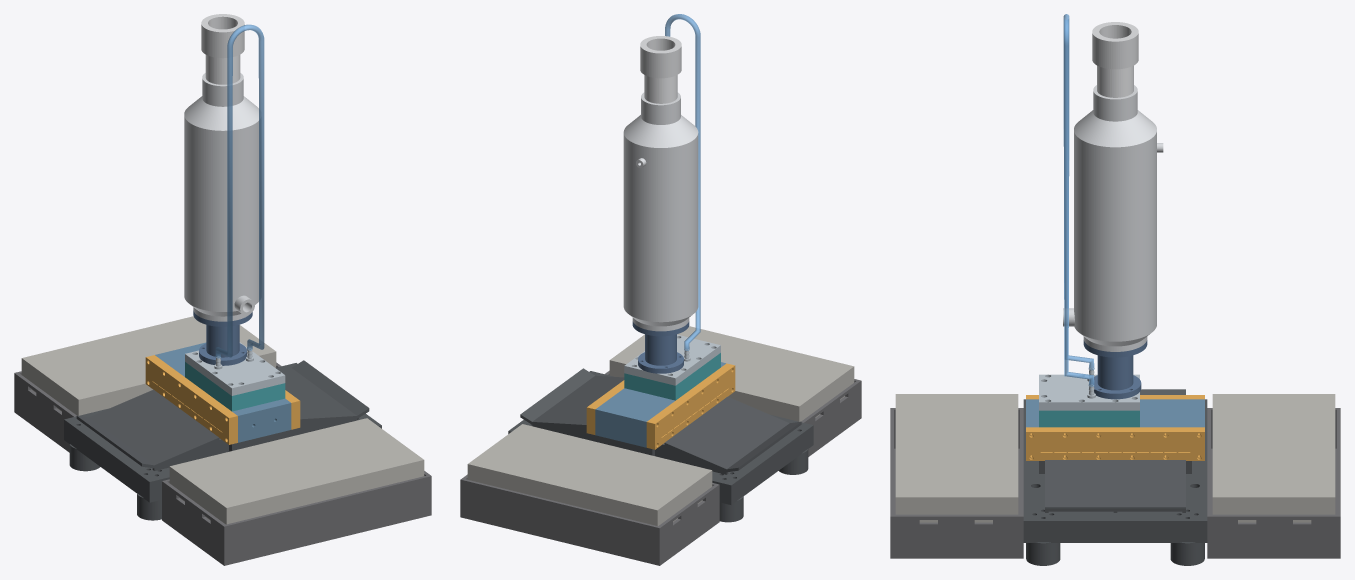
Rendered from Pulsed_Diffuser_V3_Assembly.glb.
3 views of the same model, side by side, from view 1: azimuth 30°, elevation 25°; view 2: azimuth 150°, elevation 25°; view 3: azimuth 270°, elevation 25° (orthographic). The views are drawn at different scales.
Visible parts, largest first — view 1: Part_09_Accumulator_Condensate_Separator, REF_Ballast_Concrete_Block_400x200x100, Part_01_Benthic_Base_Chassis, Part_10_Ballast_Cradle_(-Y_copy), REF_Ballast_Concrete_Block_400x200x100.001, REF_Feedback_Loop_PU_8x10_L1400, Part_06_Slit_Cartridge_BankA, Part_05_Oscillator_Top_Cover_Plate, Part_02_Twin_Plenum_Manifold, Part_10_Ballast_Cradle, Part_08_Duckbill_Check_Valve_Spool, REF_2in_Camlock_Adapter (+2 smaller); view 2: Part_09_Accumulator_Condensate_Separator, REF_Ballast_Concrete_Block_400x200x100.001, Part_01_Benthic_Base_Chassis, Part_10_Ballast_Cradle, REF_Ballast_Concrete_Block_400x200x100, Part_06_Slit_Cartridge_BankA, Part_02_Twin_Plenum_Manifold, Part_10_Ballast_Cradle_(-Y_copy), Part_05_Oscillator_Top_Cover_Plate, Part_08_Duckbill_Check_Valve_Spool, REF_Feedback_Loop_PU_8x10_L1400, REF_2in_Camlock_Adapter (+3 smaller); view 3: Part_09_Accumulator_Condensate_Separator, Part_01_Benthic_Base_Chassis, REF_Ballast_Concrete_Block_400x200x100, REF_Ballast_Concrete_Block_400x200x100.001, Part_10_Ballast_Cradle, Part_10_Ballast_Cradle_(-Y_copy), Part_07_Slit_Cartridge_BankB, Part_05_Oscillator_Top_Cover_Plate, REF_Feedback_Loop_PU_8x10_L1400, Part_02_Twin_Plenum_Manifold, Part_08_Duckbill_Check_Valve_Spool, REF_2in_Camlock_Adapter (+2 smaller).
Part boxes in pixels (x1=…): Part_09_Accumulator_Condensate_Separator: x1=184, y1=73, x2=260, y2=321; REF_Ballast_Concrete_Block_400x200x100: x1=169, y1=418, x2=424, y2=524; Part_01_Benthic_Base_Chassis: x1=64, y1=360, x2=381, y2=520; Part_10_Ballast_Cradle_(-Y_copy): x1=162, y1=471, x2=431, y2=565; REF_Ballast_Concrete_Block_400x200x100.001: x1=21, y1=316, x2=276, y2=415; REF_Feedback_Loop_PU_8x10_L1400: x1=215, y1=24, x2=264, y2=358; Part_06_Slit_Cartridge_BankA: x1=145, y1=355, x2=237, y2=444; Part_05_Oscillator_Top_Cover_Plate: x1=185, y1=342, x2=285, y2=395; Part_02_Twin_Plenum_Manifold: x1=155, y1=342, x2=291, y2=442; Part_10_Ballast_Cradle: x1=14, y1=362, x2=281, y2=452; Part_08_Duckbill_Check_Valve_Spool: x1=193, y1=310, x2=252, y2=365; REF_2in_Camlock_Adapter: x1=201, y1=14, x2=244, y2=58; Part_09_Accumulator_Condensate_Separator: x1=623, y1=92, x2=698, y2=331; REF_Ballast_Concrete_Block_400x200x100.001: x1=467, y1=424, x2=712, y2=525; Part_01_Benthic_Base_Chassis: x1=508, y1=368, x2=813, y2=522; Part_10_Ballast_Cradle: x1=460, y1=474, x2=719, y2=565; REF_Ballast_Concrete_Block_400x200x100: x1=609, y1=326, x2=854, y2=421; Part_06_Slit_Cartridge_BankA: x1=646, y1=363, x2=735, y2=449; Part_02_Twin_Plenum_Manifold: x1=595, y1=362, x2=725, y2=447; Part_10_Ballast_Cradle_(-Y_copy): x1=605, y1=370, x2=861, y2=456; Part_05_Oscillator_Top_Cover_Plate: x1=624, y1=334, x2=720, y2=385; Part_08_Duckbill_Check_Valve_Spool: x1=632, y1=321, x2=689, y2=373; REF_Feedback_Loop_PU_8x10_L1400: x1=665, y1=14, x2=700, y2=350; REF_2in_Camlock_Adapter: x1=640, y1=36, x2=681, y2=78; Part_09_Accumulator_Condensate_Separator: x1=1063, y1=85, x2=1163, y2=351; Part_01_Benthic_Base_Chassis: x1=1023, y1=389, x2=1207, y2=565; REF_Ballast_Concrete_Block_400x200x100: x1=895, y1=394, x2=1018, y2=522; REF_Ballast_Concrete_Block_400x200x100.001: x1=1212, y1=394, x2=1335, y2=522; Part_10_Ballast_Cradle: x1=1207, y1=408, x2=1340, y2=558; Part_10_Ballast_Cradle_(-Y_copy): x1=890, y1=408, x2=1023, y2=558; Part_07_Slit_Cartridge_BankB: x1=1026, y1=427, x2=1204, y2=460; Part_05_Oscillator_Top_Cover_Plate: x1=1039, y1=368, x2=1139, y2=410; REF_Feedback_Loop_PU_8x10_L1400: x1=1063, y1=14, x2=1094, y2=386; Part_02_Twin_Plenum_Manifold: x1=1026, y1=399, x2=1204, y2=427; Part_08_Duckbill_Check_Valve_Spool: x1=1083, y1=340, x2=1147, y2=399; REF_2in_Camlock_Adapter: x1=1092, y1=22, x2=1138, y2=69.
Bounding box in the file's own units: 476 × 880 × 736.
